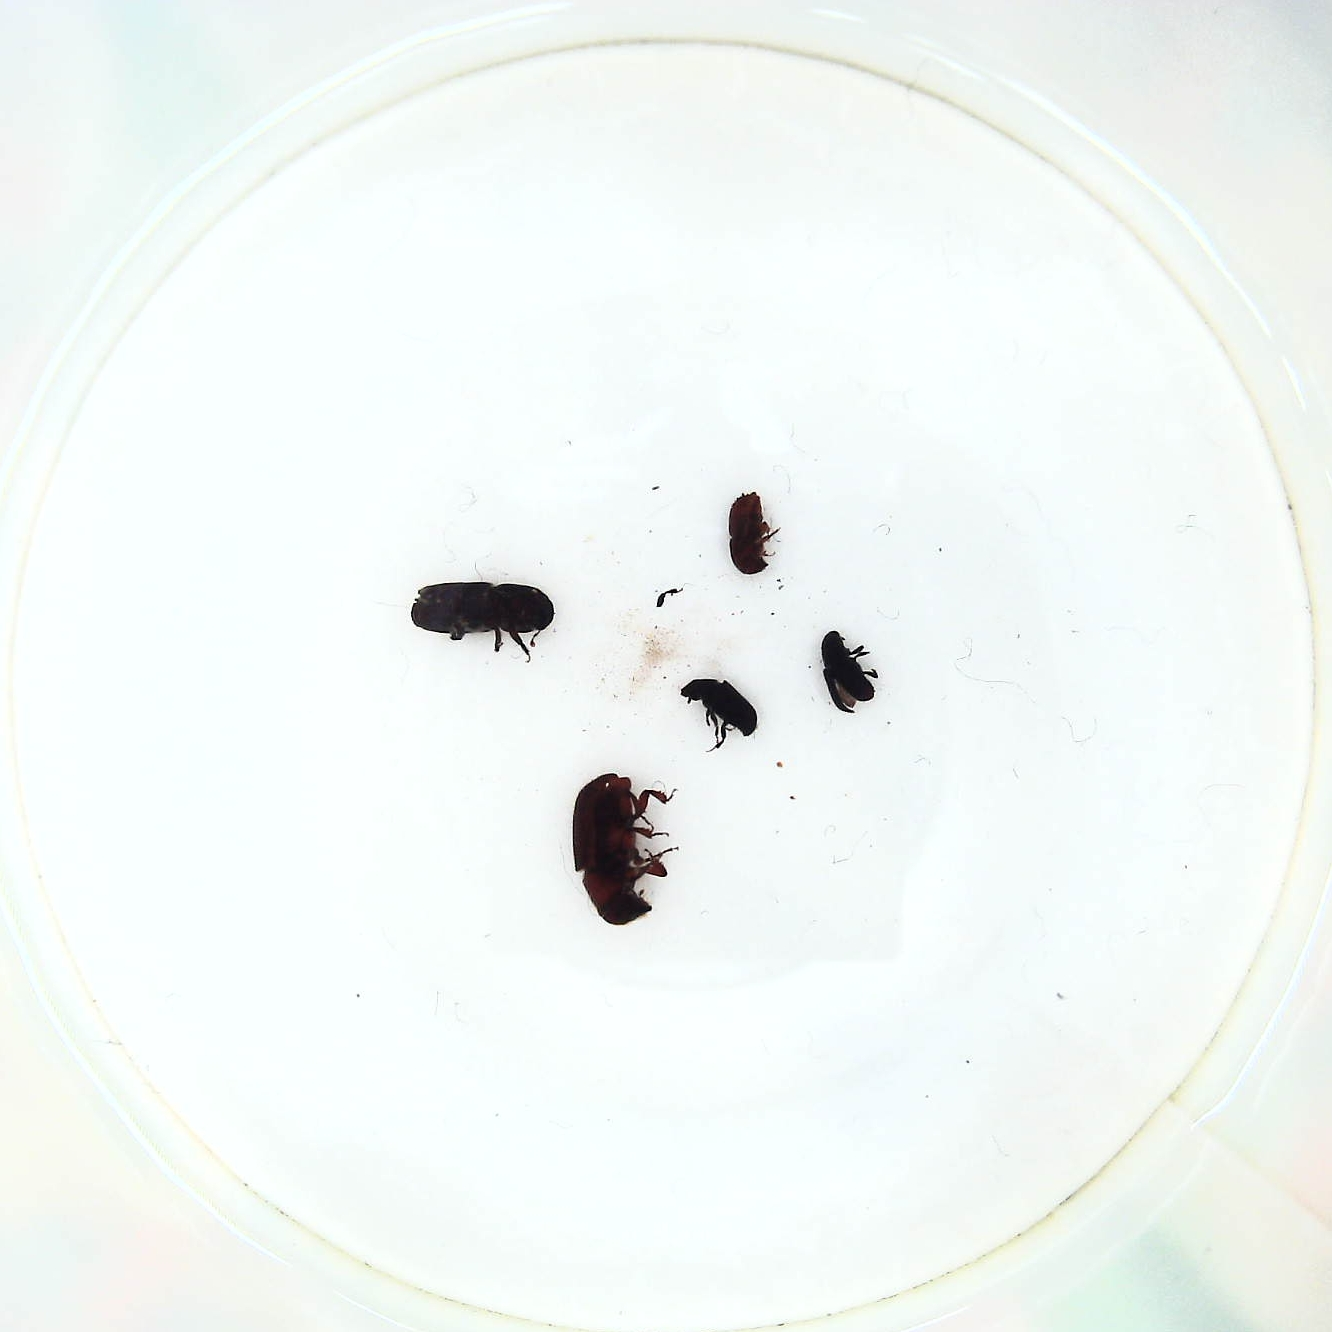Boerner: (404, 577, 560, 662)
Leconte: (567, 768, 679, 929)
armandi: (818, 625, 882, 718)
coleoptera: (677, 677, 762, 753)
linnaeus: (726, 484, 782, 582)
